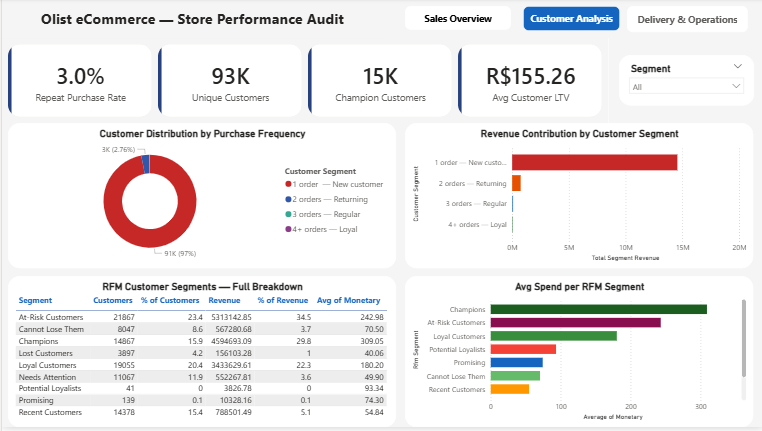

This screenshot's page, from the dashboard's own definition file:
{"tool":"powerbi","page":{"name":"Customer Analysis","canvas":[1280,720],"ordinal":1},"visuals":[{"type":"cardVisual","fields":{"Data":["query3_customer_repeat.Repeat Purchase Rate","Sum(query3_customer_repeat.customer_count)","query3_customer_repeat.Champion Customers","Avg(query3_customer_repeat.avg_order_value)"]},"box":[0,66.6,1019.1,143.1],"z":0},{"type":"slicer","title":"Segment","fields":{"Values":["rfm_segment_summary.rfm_segment"]},"box":[1036.1,96.4,226.8,85],"z":1000},{"type":"textbox","box":[0,13.4,640,53.8],"z":2000},{"type":"donutChart","title":"Customer Distribution by Purchase Frequency","fields":{"Category":["query3_customer_repeat.customer_segment"],"Y":["Sum(query3_customer_repeat.customer_count)"]},"box":[9.9,209.8,652,243.8],"z":3000},{"type":"clusteredBarChart","title":"Revenue Contribution by Customer Segment","fields":{"Category":["query3_customer_repeat.customer_segment"],"Y":["Sum(query3_customer_repeat.segment_revenue)"]},"box":[677.5,209.8,585.4,243.8],"z":4000},{"type":"tableEx","title":"RFM Customer Segments — Full Breakdown","fields":{"Values":["rfm_segment_summary.rfm_segment","rfm_segment_summary.customer_count","rfm_segment_summary.pct_customers","rfm_segment_summary.total_revenue","rfm_segment_summary.pct_revenue","rfm_segment_summary.avg_monetary"]},"box":[9.9,466.3,652,253.7],"z":5000},{"type":"clusteredBarChart","title":"Avg Spend per RFM Segment","fields":{"Category":["rfm_segment_summary.rfm_segment"],"Y":["Avg(rfm_segment_summary.avg_monetary)"]},"box":[677.5,466.3,585.4,253.7],"z":6000},{"type":"actionButton","title":"Sales Overview","box":[677,13.4,178.1,40.3],"z":6001},{"type":"actionButton","box":[875.2,13.4,162.9,42],"z":6002},{"type":"actionButton","box":[1049.9,13.4,203.3,43.7],"z":6003}]}

Visuals, with their boxes in screenshot pixels (x1, y1, x2, y2), scaled from the page's 1280x720 canvas onto the 762x431 screenshot:
cardVisual - query3_customer_repeat.Repeat Purchase Rate x Sum(query3_customer_repeat.customer_count): BBox(0, 40, 607, 126)
"Segment" slicer: BBox(617, 58, 752, 109)
textbox: BBox(0, 8, 381, 40)
"Customer Distribution by Purchase Frequency" donutChart: BBox(6, 126, 394, 272)
"Revenue Contribution by Customer Segment" clusteredBarChart: BBox(403, 126, 752, 272)
"RFM Customer Segments — Full Breakdown" tableEx: BBox(6, 279, 394, 430)
"Avg Spend per RFM Segment" clusteredBarChart: BBox(403, 279, 752, 430)
"Sales Overview" actionButton: BBox(403, 8, 509, 32)
actionButton: BBox(521, 8, 618, 33)
actionButton: BBox(625, 8, 746, 34)
